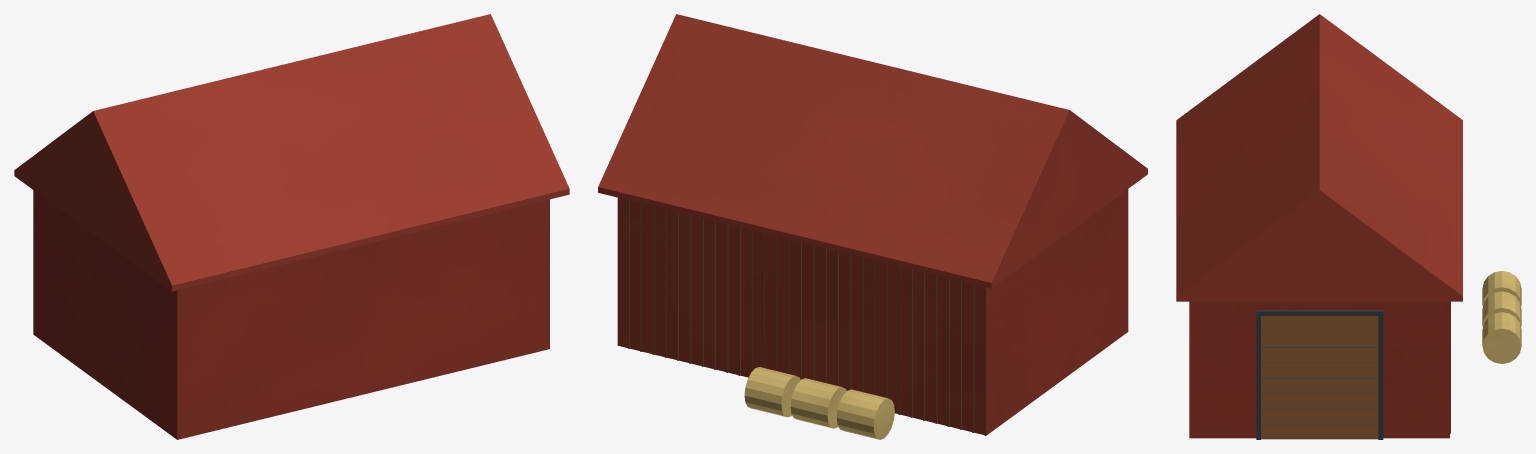
Rendered from pv_stodola.glb.
The picture shows the model from 3 angles, left to right: view 1: azimuth 30°, elevation 25°; view 2: azimuth 150°, elevation 25°; view 3: azimuth 270°, elevation 25°; orthographic projection. The views are drawn at different scales.
Visible parts, largest first — view 1: dum; view 2: dum; view 3: dum.
Part boxes in pixels (bbox=[...]): dum: bbox=[14, 14, 569, 439]; dum: bbox=[598, 14, 1147, 439]; dum: bbox=[1176, 14, 1521, 439].
Bounding box in the file's own units: 12.77 × 8.58 × 10.57.
1 material, 1 textured.
